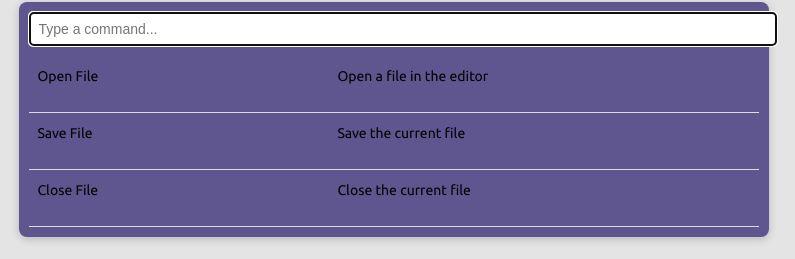
Scenario: CommandPalette › filters commands based on query
Step 1. Type "Open File" into the field with placeholder "Type a command..." → {"x": 403, "y": 29}, box [29,12,777,46]
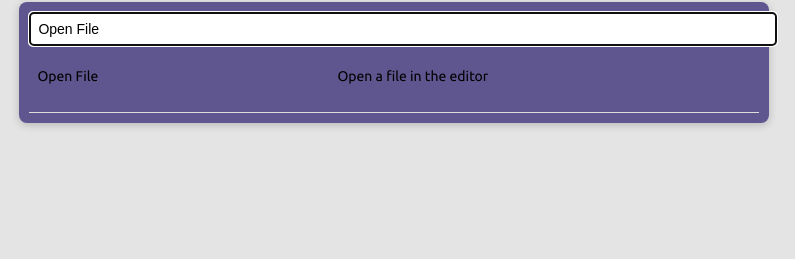
Expected: the text "Open File" is shown, [37,68,98,84]
Result: the text "Save File" is gone
Result: the text "Close File" is gone
